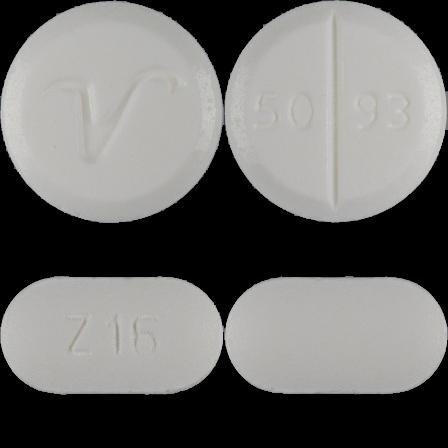45865-670: (0, 0, 224, 224)
